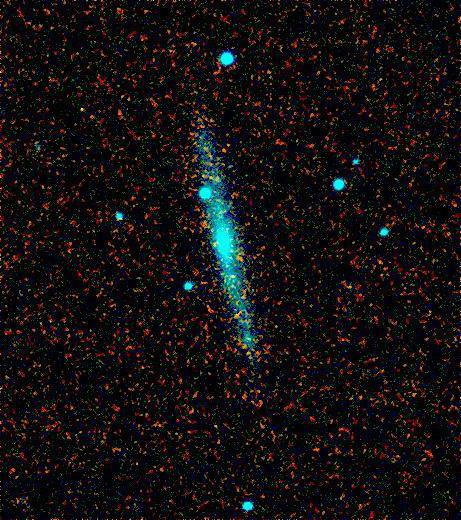star: (68, 98, 98, 128)
